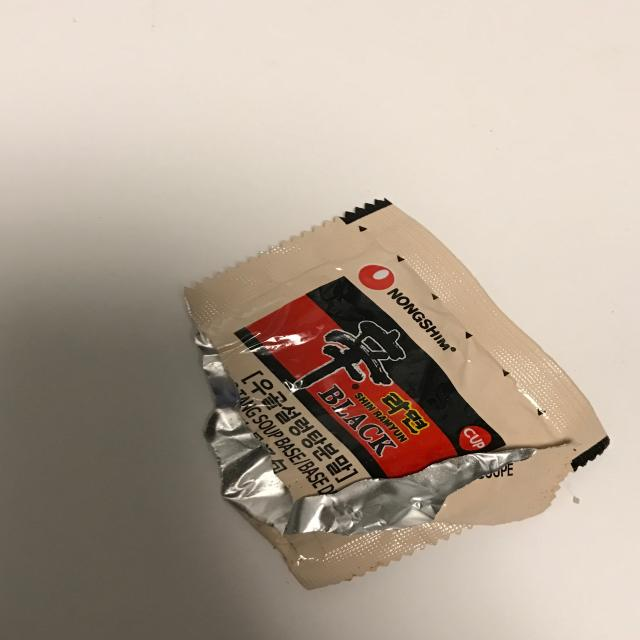trash: (183, 197, 611, 590)
